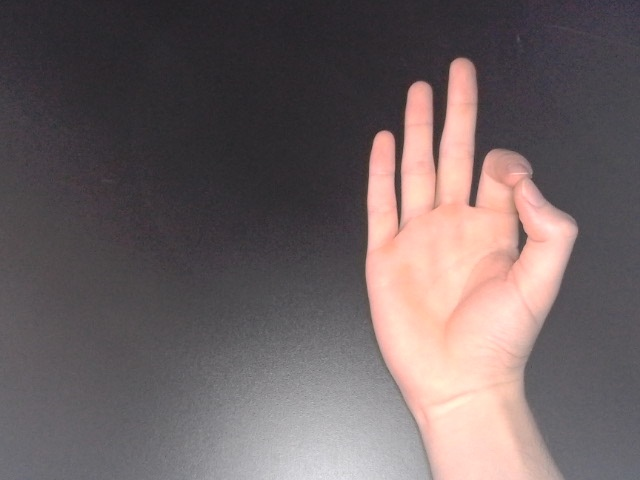f: (359, 54, 582, 427)
